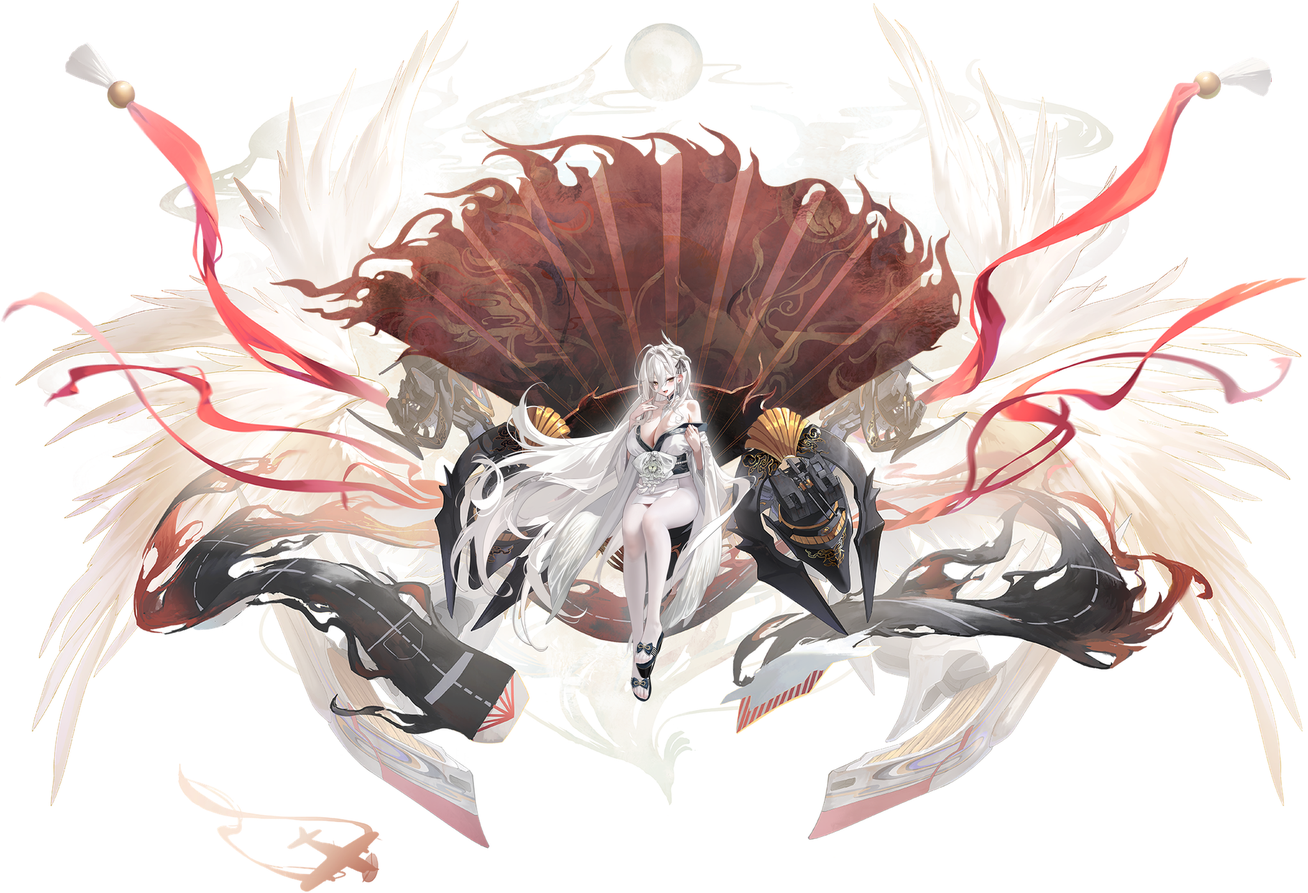person: (514, 314, 769, 750)
